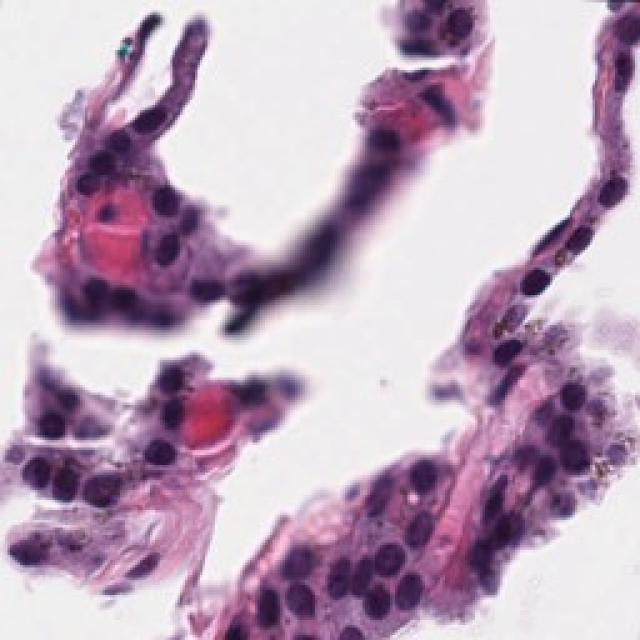normal: (41, 437, 111, 517), (72, 452, 134, 532), (253, 529, 326, 593), (572, 162, 634, 227), (505, 249, 563, 318), (383, 559, 441, 621), (18, 440, 70, 504), (276, 570, 327, 635), (237, 580, 291, 636), (549, 210, 603, 262), (388, 507, 439, 557), (330, 540, 366, 600), (353, 589, 397, 634), (135, 427, 174, 477)
